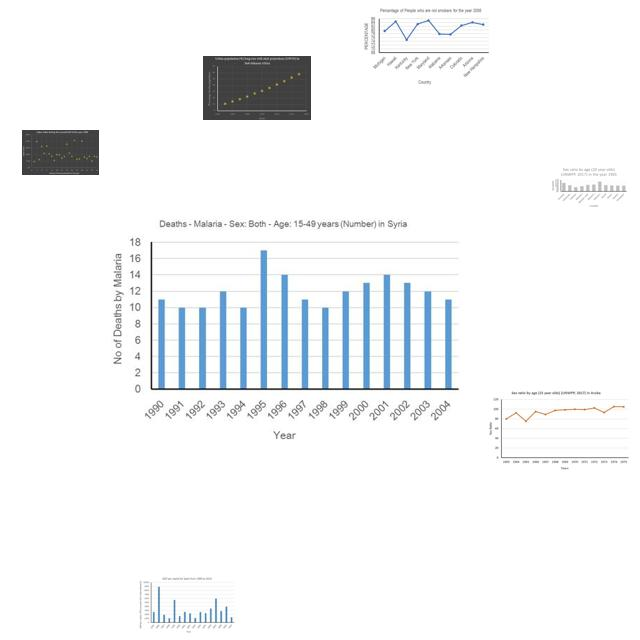Graph: (105, 213, 465, 446), (486, 388, 632, 474), (361, 7, 492, 86), (203, 56, 311, 120), (138, 576, 236, 634), (22, 130, 99, 175), (550, 166, 628, 208)
